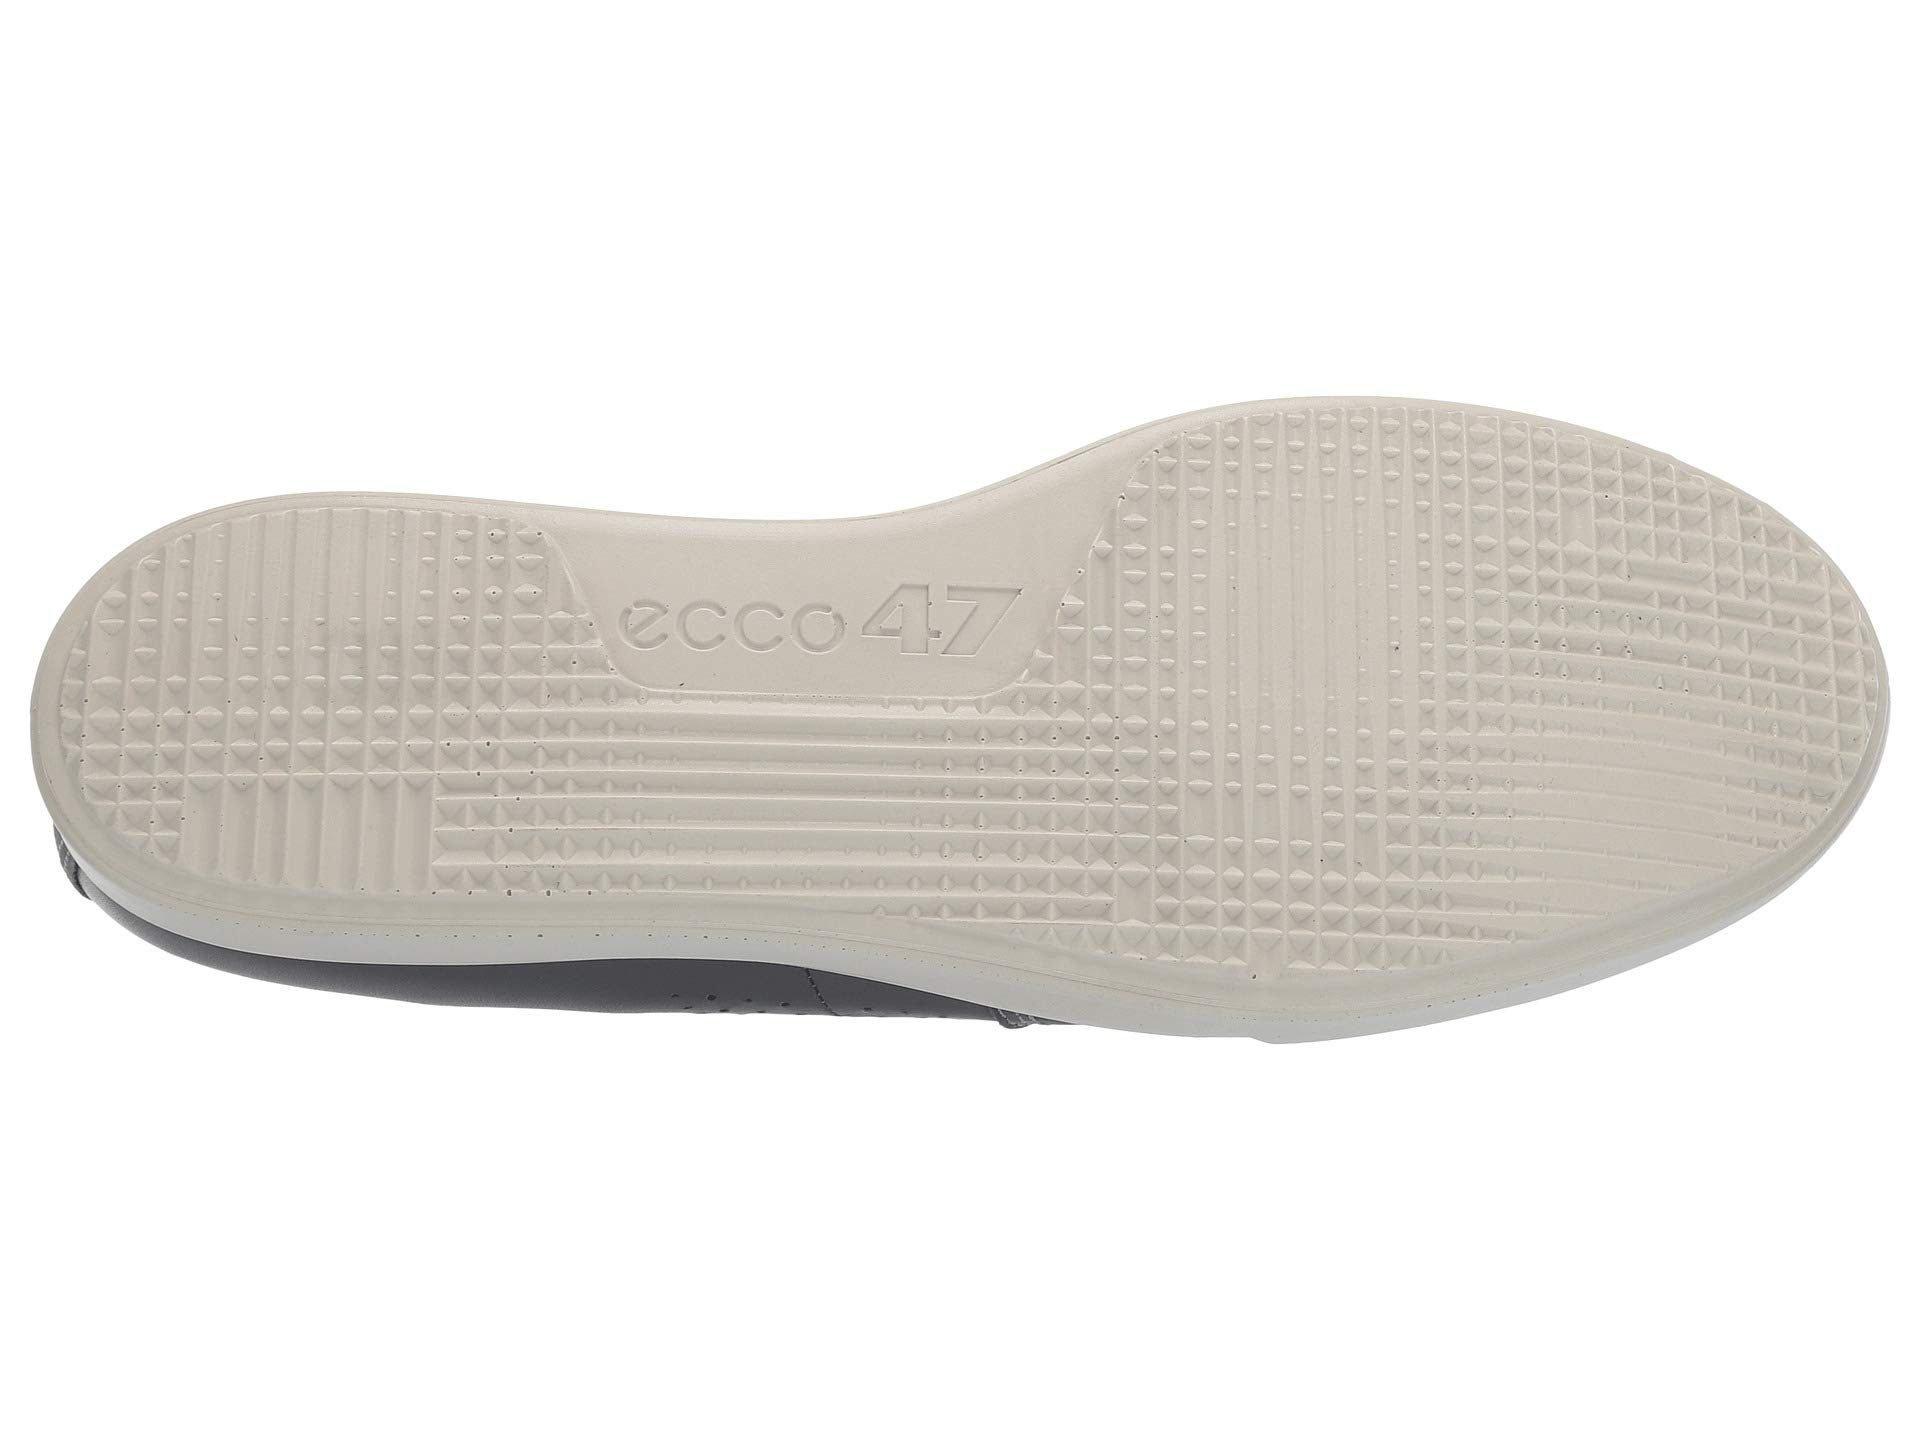circle: (497, 531, 1019, 753)
quad: (1141, 508, 1491, 915), (497, 531, 1019, 753)
text: (497, 531, 1019, 753)
